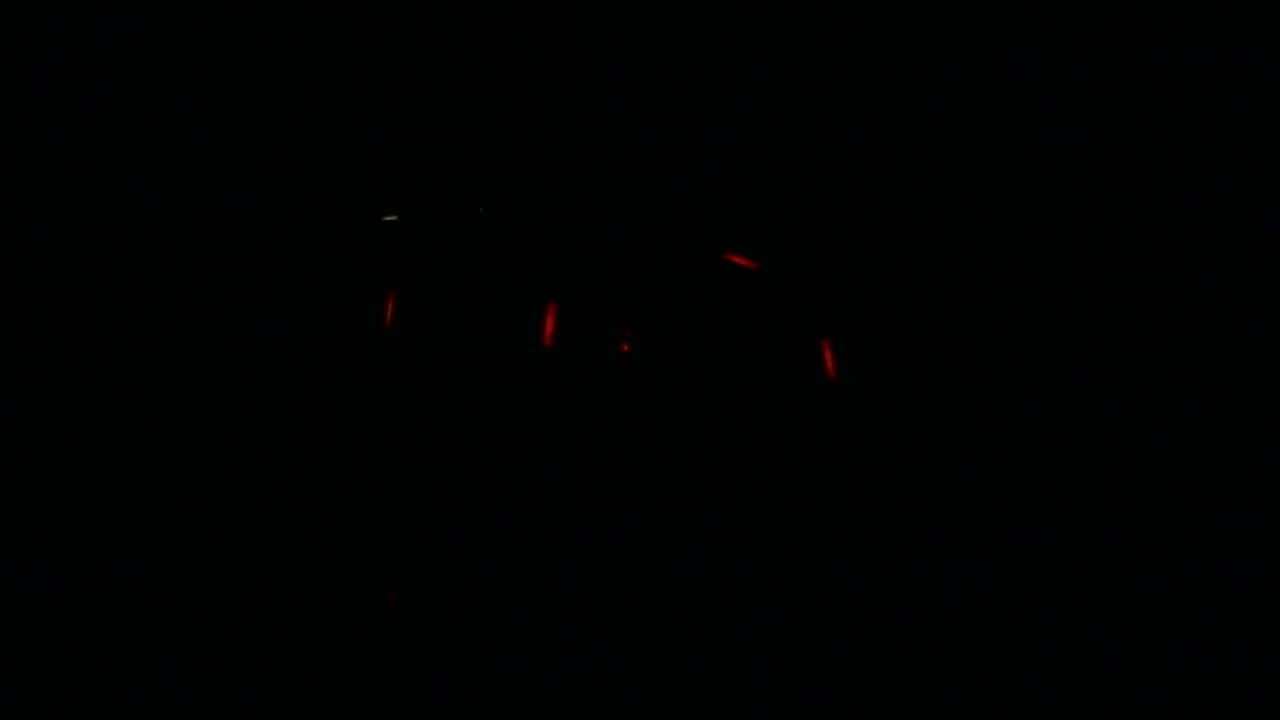lamp: (537, 298, 556, 350)
notpair2: (539, 300, 838, 384)
pair2: (381, 290, 556, 351)
